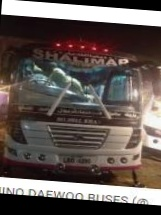bus: (3, 39, 150, 176)
